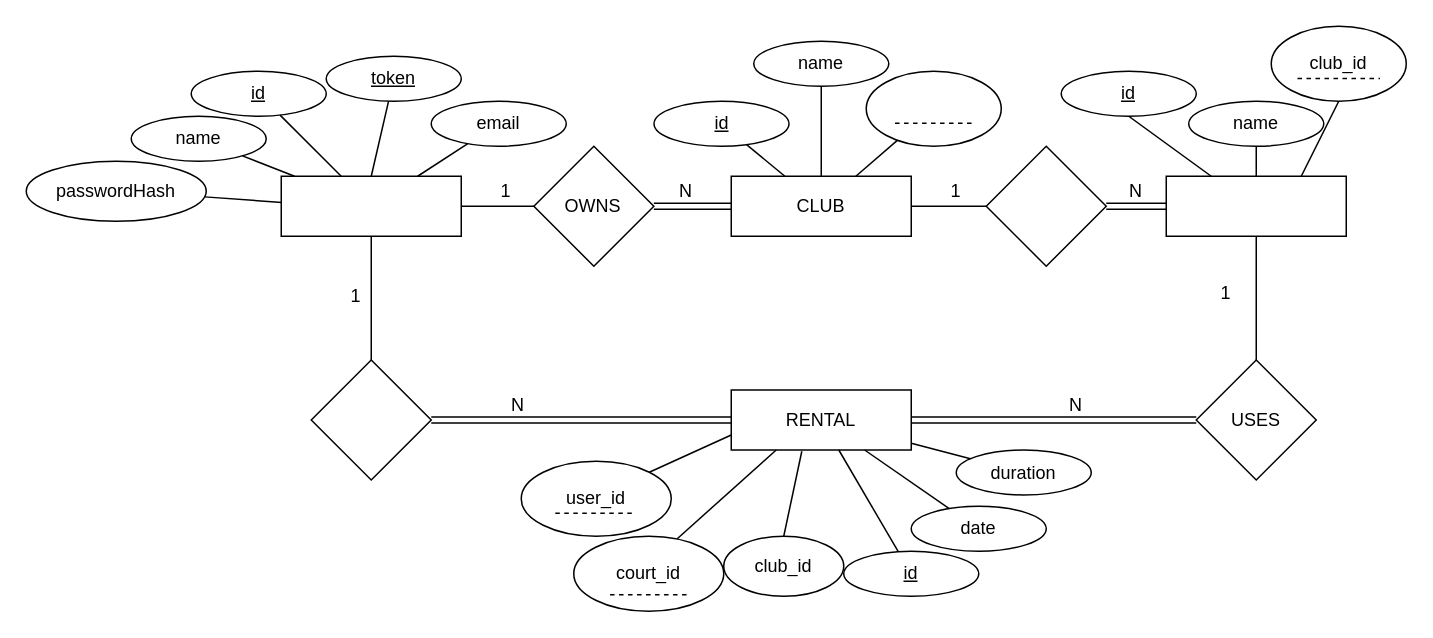
This 1433x638 diagram has some shape labels left out. The shapes that lost their labels are listed below. From the top down, each one's centre as x and y in pixels, then its label:
At (x=933, y=108): "owner_id".
At (x=370, y=205): "USER".
At (x=1045, y=205): "HAS".
At (x=1255, y=205): "COURT".
At (x=370, y=419): "MAKES".
